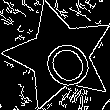O_NW: (27, 23, 93, 89)
